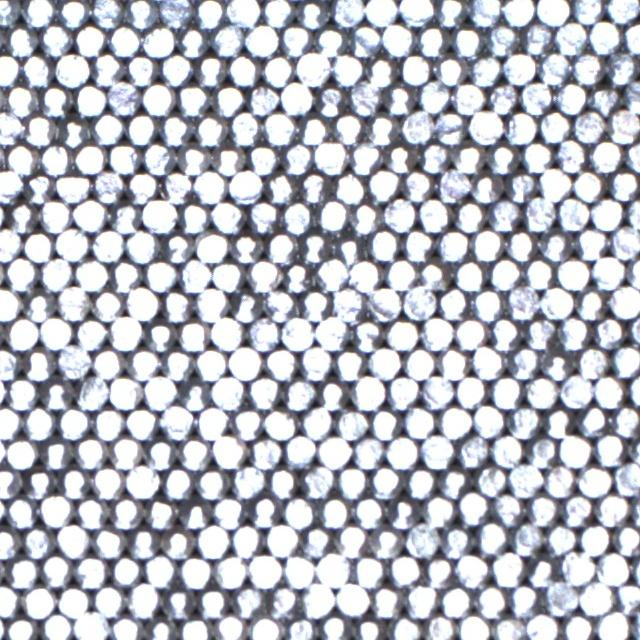tool: (230, 463, 265, 497), (595, 492, 629, 527), (108, 315, 142, 350), (265, 584, 299, 619), (492, 551, 526, 586), (246, 316, 280, 351), (576, 463, 610, 498), (560, 550, 595, 584), (193, 229, 228, 263), (211, 433, 245, 468), (194, 404, 229, 438), (455, 552, 489, 587), (265, 522, 299, 556), (91, 583, 125, 617), (559, 492, 593, 526), (56, 284, 90, 318), (385, 317, 419, 351), (212, 494, 246, 528), (468, 110, 502, 144), (280, 316, 314, 350), (56, 344, 90, 378), (524, 374, 558, 408), (56, 522, 90, 556), (509, 522, 543, 556), (262, 111, 296, 145), (264, 345, 298, 379), (246, 374, 280, 408), (404, 522, 438, 556), (314, 139, 348, 173), (588, 19, 622, 53), (382, 197, 416, 231), (281, 495, 315, 529), (38, 82, 72, 116), (282, 433, 316, 467), (348, 140, 382, 174), (606, 167, 640, 201), (195, 585, 229, 619), (380, 22, 414, 56), (229, 523, 263, 557), (506, 345, 540, 379), (230, 584, 264, 618), (107, 79, 141, 113), (543, 580, 577, 614), (228, 168, 262, 202), (228, 344, 262, 378), (439, 524, 473, 558), (366, 285, 400, 319), (213, 554, 247, 588), (554, 138, 588, 172), (388, 552, 422, 586), (507, 582, 541, 616), (178, 554, 212, 588), (247, 553, 281, 587), (298, 344, 332, 378), (55, 226, 89, 260), (210, 199, 244, 233), (246, 199, 280, 233), (74, 376, 108, 410), (351, 375, 385, 409), (506, 404, 540, 438), (159, 405, 193, 439), (605, 50, 639, 84), (74, 257, 108, 291), (539, 228, 573, 262), (471, 286, 504, 321), (317, 433, 350, 468), (421, 493, 454, 528), (420, 433, 453, 468), (385, 375, 420, 408), (55, 52, 88, 87), (475, 520, 508, 555), (22, 346, 55, 381), (418, 197, 451, 231), (143, 374, 176, 408), (456, 491, 490, 524), (368, 345, 402, 378), (421, 374, 454, 408), (335, 465, 369, 498), (522, 196, 556, 229), (607, 108, 640, 142), (316, 552, 350, 585), (315, 314, 348, 348), (506, 285, 539, 319), (5, 316, 38, 350), (417, 79, 450, 113), (280, 141, 313, 175), (596, 551, 629, 585), (91, 464, 124, 498), (212, 374, 245, 408), (473, 462, 507, 495), (589, 139, 622, 173), (333, 346, 366, 380), (143, 258, 177, 291), (92, 287, 125, 321), (126, 286, 159, 320), (126, 464, 159, 498), (91, 52, 124, 86), (370, 584, 403, 618), (522, 256, 555, 290), (108, 375, 142, 408), (161, 466, 194, 500), (542, 463, 576, 496), (109, 496, 142, 530), (473, 584, 507, 617), (590, 197, 624, 230), (330, 287, 364, 320), (316, 198, 349, 232), (143, 436, 176, 470), (385, 434, 419, 467), (433, 112, 467, 145), (245, 22, 278, 56), (544, 522, 577, 556), (195, 466, 228, 500), (485, 81, 519, 114), (109, 434, 142, 468), (540, 285, 573, 319), (574, 286, 607, 320), (537, 167, 571, 200), (332, 170, 366, 203), (348, 258, 381, 292), (488, 257, 522, 290), (266, 465, 299, 499), (488, 317, 522, 350), (556, 256, 590, 289), (265, 170, 298, 204), (487, 198, 521, 231), (436, 168, 470, 201), (315, 83, 348, 117), (334, 523, 368, 556), (523, 316, 556, 350), (556, 196, 589, 230), (91, 406, 125, 439), (421, 315, 454, 349), (454, 316, 488, 349), (368, 406, 402, 439), (490, 433, 523, 467), (369, 524, 402, 558), (470, 227, 504, 260), (282, 376, 316, 409), (524, 433, 557, 467), (126, 583, 160, 616), (144, 496, 177, 530), (211, 258, 244, 292), (91, 228, 124, 262), (484, 22, 518, 55), (21, 584, 55, 617), (177, 435, 210, 469), (6, 554, 39, 588), (125, 406, 158, 440), (541, 348, 575, 381), (591, 254, 624, 288), (402, 346, 436, 379), (402, 285, 435, 319), (300, 582, 333, 616), (261, 53, 295, 86), (436, 228, 469, 262), (176, 82, 209, 116), (283, 553, 316, 587), (301, 464, 334, 498), (335, 582, 368, 616), (75, 495, 108, 529), (454, 374, 487, 408), (451, 24, 484, 58), (502, 50, 536, 83), (352, 554, 386, 587), (402, 404, 436, 437), (74, 554, 107, 588), (350, 318, 383, 352), (177, 24, 210, 58), (579, 580, 613, 613), (554, 80, 588, 113), (177, 142, 210, 176), (352, 434, 385, 468), (452, 258, 486, 291), (248, 493, 280, 528), (74, 316, 106, 351), (301, 524, 333, 559), (142, 198, 175, 231), (508, 462, 541, 495), (196, 523, 229, 556), (593, 374, 626, 407), (471, 344, 504, 377), (538, 109, 571, 142), (92, 524, 125, 557), (572, 109, 605, 142), (559, 373, 592, 406), (91, 346, 124, 379), (592, 316, 625, 349), (57, 584, 90, 617), (5, 496, 38, 529), (5, 257, 38, 290), (92, 168, 125, 201), (57, 466, 90, 499), (245, 82, 278, 115), (194, 113, 227, 146), (107, 141, 140, 174), (521, 139, 554, 172), (5, 435, 38, 468), (194, 286, 227, 319), (143, 553, 176, 586), (437, 347, 470, 380), (210, 316, 243, 349), (490, 375, 523, 408), (5, 83, 38, 116), (418, 141, 451, 174), (92, 111, 125, 144), (471, 170, 504, 203), (436, 286, 469, 319), (593, 432, 626, 465), (5, 142, 38, 175), (486, 141, 519, 174), (21, 525, 54, 558), (434, 53, 467, 86), (125, 112, 158, 145), (439, 584, 472, 617), (40, 377, 73, 410), (73, 198, 106, 231), (144, 319, 177, 352), (230, 406, 263, 439), (39, 256, 72, 289), (381, 82, 414, 115), (331, 53, 364, 86), (571, 51, 604, 84), (126, 346, 159, 379), (109, 258, 142, 291), (279, 81, 312, 114), (588, 82, 621, 115), (125, 229, 158, 262), (20, 53, 53, 86), (247, 258, 280, 291), (125, 169, 158, 202), (296, 51, 329, 84), (416, 24, 449, 57), (451, 82, 484, 115), (247, 436, 280, 469), (108, 200, 141, 233), (422, 554, 455, 587), (365, 55, 398, 88), (537, 52, 570, 85), (126, 525, 159, 558), (453, 199, 486, 232), (505, 228, 538, 261), (352, 495, 385, 528), (160, 230, 193, 263), (576, 404, 609, 437), (73, 82, 106, 115), (299, 405, 332, 438), (177, 378, 210, 411), (177, 200, 210, 233), (21, 229, 54, 262), (22, 406, 55, 439), (526, 553, 559, 586), (401, 228, 434, 261), (74, 435, 107, 468), (160, 112, 192, 146), (40, 492, 72, 526), (520, 80, 552, 114), (608, 283, 640, 317), (572, 167, 604, 201), (368, 167, 400, 201), (142, 80, 174, 114), (40, 315, 72, 349), (370, 464, 402, 498), (318, 494, 350, 528), (558, 433, 590, 467), (40, 22, 72, 56), (418, 257, 450, 291), (492, 491, 524, 525), (40, 553, 72, 587), (212, 142, 244, 176), (469, 52, 501, 86), (367, 112, 399, 146), (265, 230, 297, 264), (6, 376, 40, 408), (160, 169, 192, 203), (55, 170, 89, 202), (472, 403, 504, 437), (40, 436, 72, 470), (298, 112, 330, 146), (162, 585, 194, 619), (578, 522, 610, 556), (526, 492, 558, 526), (73, 141, 105, 175), (23, 112, 55, 146), (554, 20, 586, 54), (125, 52, 157, 86), (39, 198, 71, 231), (332, 112, 365, 144), (194, 168, 226, 201), (384, 258, 417, 290), (40, 142, 72, 175), (142, 141, 174, 174), (228, 112, 261, 144), (557, 316, 590, 348), (520, 22, 553, 54), (230, 232, 263, 264), (194, 346, 227, 378), (212, 82, 244, 115), (194, 54, 227, 86), (161, 289, 193, 322), (161, 348, 194, 380), (162, 526, 194, 559), (348, 82, 380, 115), (456, 434, 488, 467), (178, 258, 211, 290), (247, 142, 279, 175), (263, 288, 295, 321), (335, 406, 367, 439), (298, 171, 330, 204), (316, 378, 349, 410), (212, 23, 244, 56), (404, 466, 437, 498), (386, 497, 418, 530), (438, 466, 471, 498), (574, 226, 607, 258), (404, 584, 437, 616), (576, 346, 609, 378), (142, 24, 175, 56), (160, 52, 192, 85), (280, 23, 312, 56), (314, 25, 347, 57), (57, 115, 90, 147), (504, 111, 536, 144), (108, 24, 141, 56), (298, 230, 330, 263), (109, 554, 142, 586), (400, 110, 432, 143), (74, 23, 106, 56), (264, 406, 296, 439), (281, 200, 313, 233), (5, 200, 38, 232), (367, 228, 400, 260), (504, 170, 537, 202), (402, 169, 434, 202), (399, 52, 432, 84), (438, 404, 470, 437), (178, 498, 211, 530), (228, 290, 261, 322), (452, 142, 484, 175), (23, 170, 55, 203), (542, 405, 574, 438), (23, 290, 55, 323), (24, 466, 56, 499), (609, 343, 640, 377), (596, 609, 630, 640), (609, 224, 640, 258), (316, 257, 348, 289), (228, 53, 260, 85), (6, 24, 38, 56), (298, 288, 330, 320), (282, 260, 314, 292), (176, 319, 208, 351), (57, 406, 89, 438), (348, 24, 380, 56), (384, 142, 416, 174), (348, 203, 380, 235), (610, 403, 640, 437), (334, 231, 366, 262), (611, 460, 640, 494), (561, 611, 595, 640), (611, 522, 640, 556), (40, 611, 73, 640), (422, 612, 456, 640), (456, 612, 490, 640), (296, 0, 330, 28), (525, 612, 559, 640), (74, 612, 108, 640), (317, 612, 350, 640), (125, 0, 158, 28), (4, 613, 38, 640), (261, 0, 295, 27), (56, 0, 90, 27), (433, 0, 468, 26), (194, 0, 226, 28), (91, 0, 124, 27), (213, 613, 246, 640), (364, 0, 398, 26), (158, 0, 192, 26), (22, 0, 54, 27), (536, 0, 569, 26), (492, 614, 525, 640), (388, 614, 421, 640), (227, 0, 260, 26), (614, 579, 640, 612), (248, 615, 282, 640), (502, 0, 534, 26), (332, 0, 364, 26), (110, 614, 142, 640), (469, 0, 502, 25), (399, 0, 432, 25), (179, 615, 212, 640), (283, 615, 316, 640), (144, 615, 177, 640), (352, 616, 385, 640), (0, 465, 23, 499), (0, 110, 23, 144), (572, 0, 604, 23), (606, 0, 638, 23), (0, 167, 22, 200), (0, 344, 21, 378), (0, 286, 21, 320), (0, 526, 21, 560), (0, 405, 21, 438), (0, 228, 21, 261), (0, 52, 20, 86), (621, 80, 640, 114), (0, 582, 19, 616), (0, 0, 21, 27), (623, 20, 640, 52), (624, 138, 640, 172), (624, 255, 640, 288), (625, 196, 640, 228)
